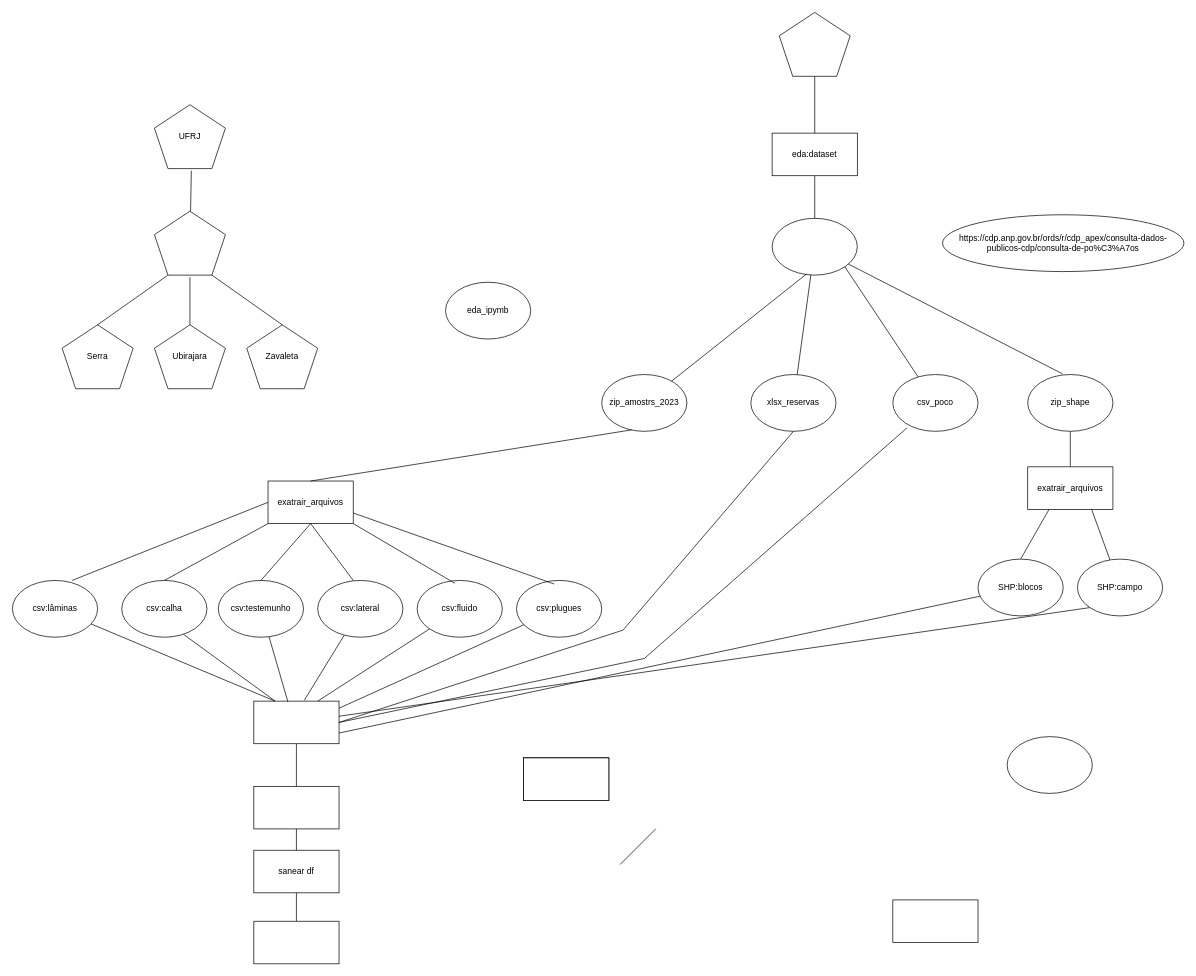
Some shapes in this 1196 by 976 pixel diagram are drawn without their labels. Here are the shapes that lost their labels. From the top down, the centre of each, then its label:
At point (814, 44): "ANP".
At point (189, 243): "PPGI".
At point (814, 246): "URLs".
At point (296, 722): "ler arquivos".
At point (296, 807): "salvar dfs".
At point (296, 942): "agrupar df".
